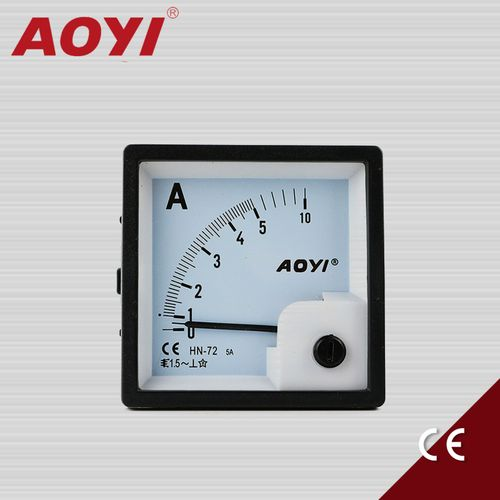pointer: (138, 161, 368, 388)
